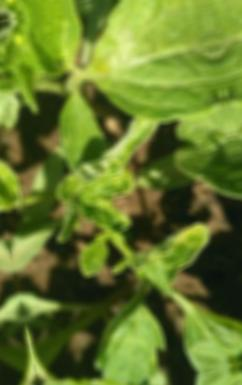Tomato leaf mosaic virus: (78, 0, 227, 133), (38, 110, 181, 242), (105, 210, 233, 291), (85, 277, 177, 385), (45, 82, 133, 189), (22, 3, 99, 82), (0, 145, 36, 212), (0, 76, 28, 135), (0, 18, 24, 76)
